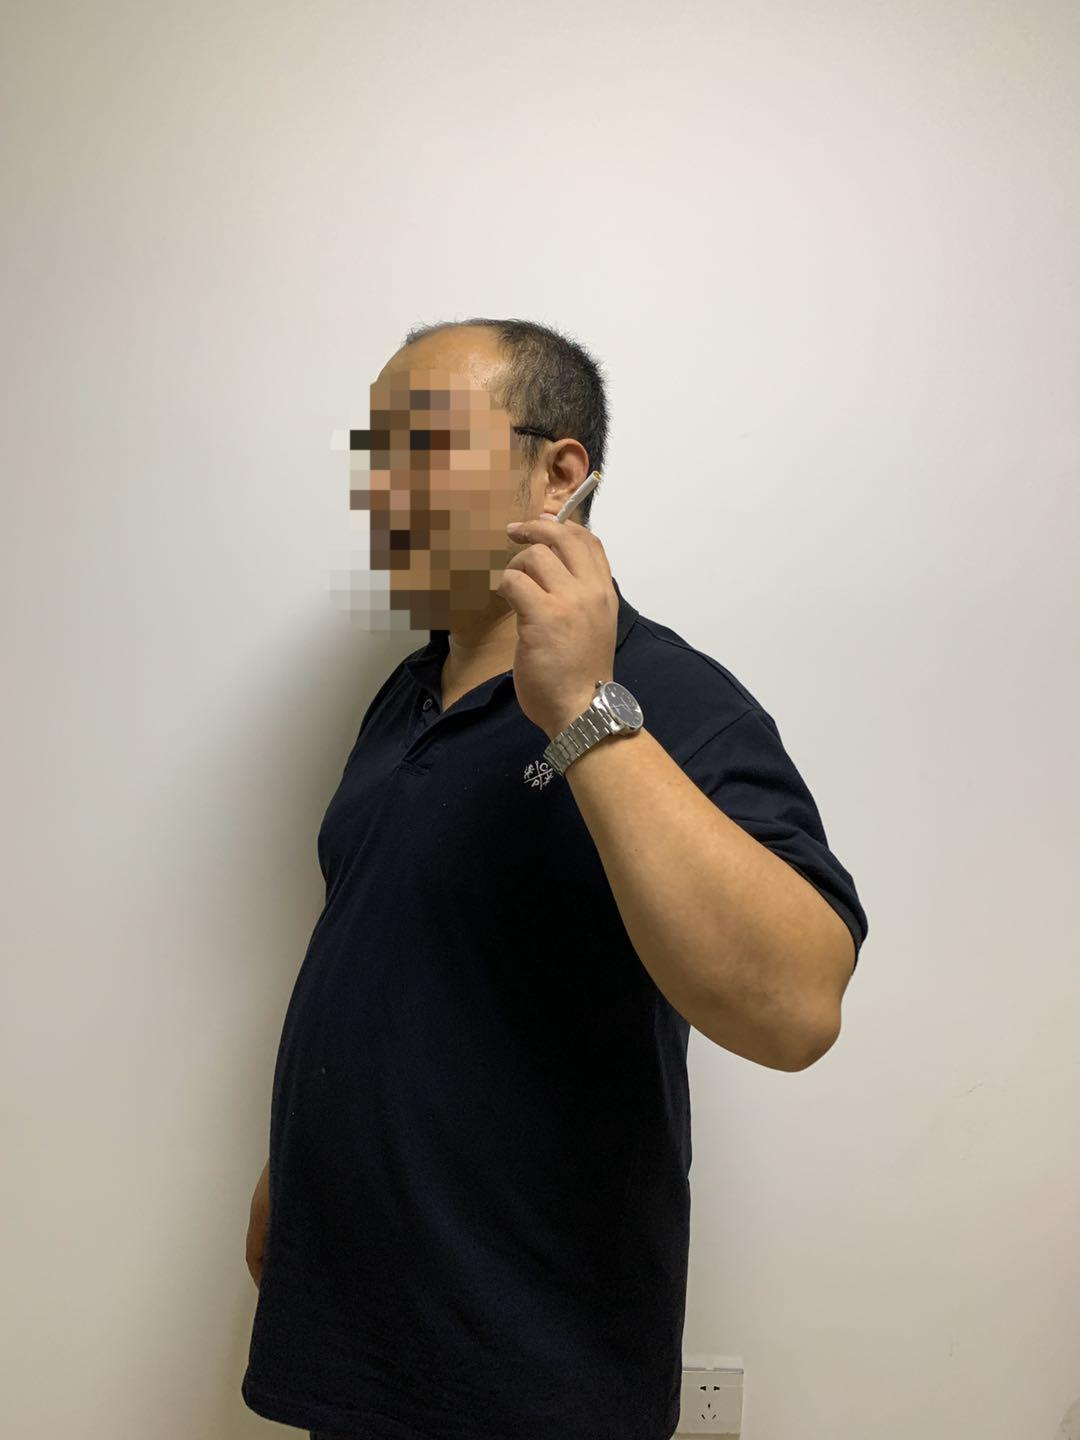smoke: (555, 466, 604, 525)
